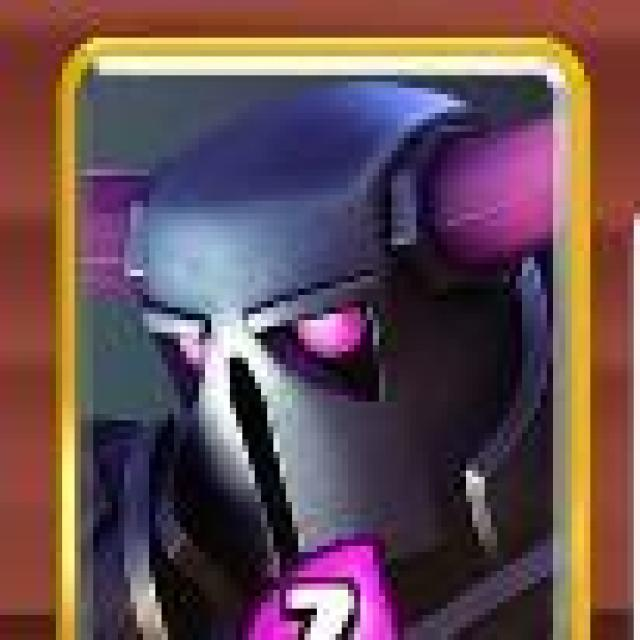Pekka: (64, 41, 593, 640)
